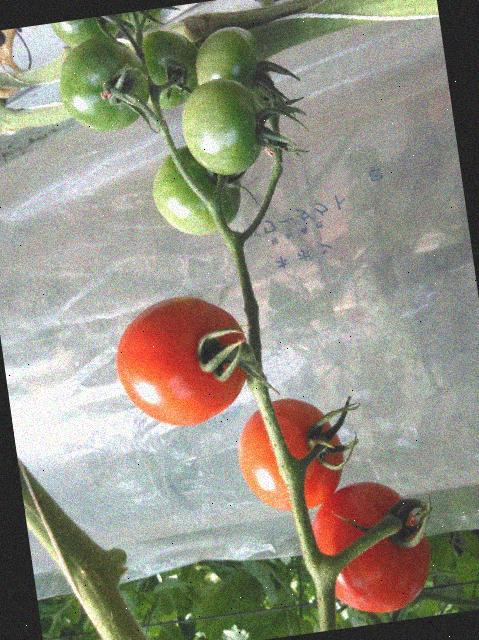l_fully_ripened: (108, 288, 257, 435), (303, 474, 439, 622), (231, 392, 351, 518)
l_green: (52, 30, 156, 137), (147, 137, 247, 242), (176, 73, 269, 181), (190, 22, 273, 108), (134, 26, 206, 112), (48, 13, 127, 52), (103, 6, 173, 33)
